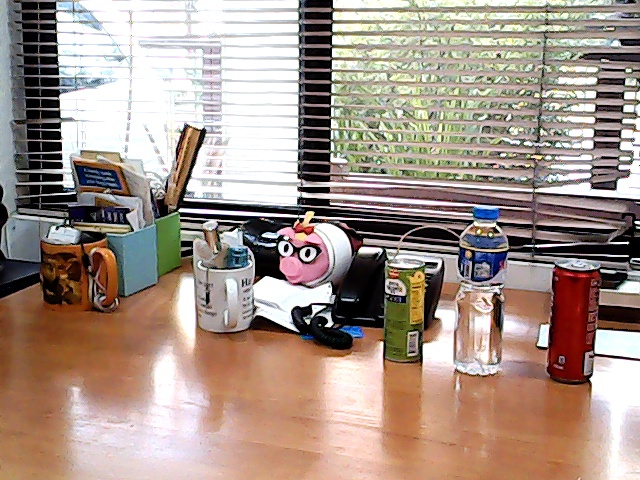Cola: (536, 239, 612, 404)
Pine Juice: (369, 249, 433, 376)
Summit Water: (443, 194, 519, 385)
